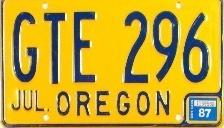2: (122, 9, 153, 86)
6: (182, 11, 211, 85)
9: (151, 9, 180, 83)
E: (71, 10, 102, 83)
G: (11, 10, 39, 84)
T: (41, 10, 66, 86)
